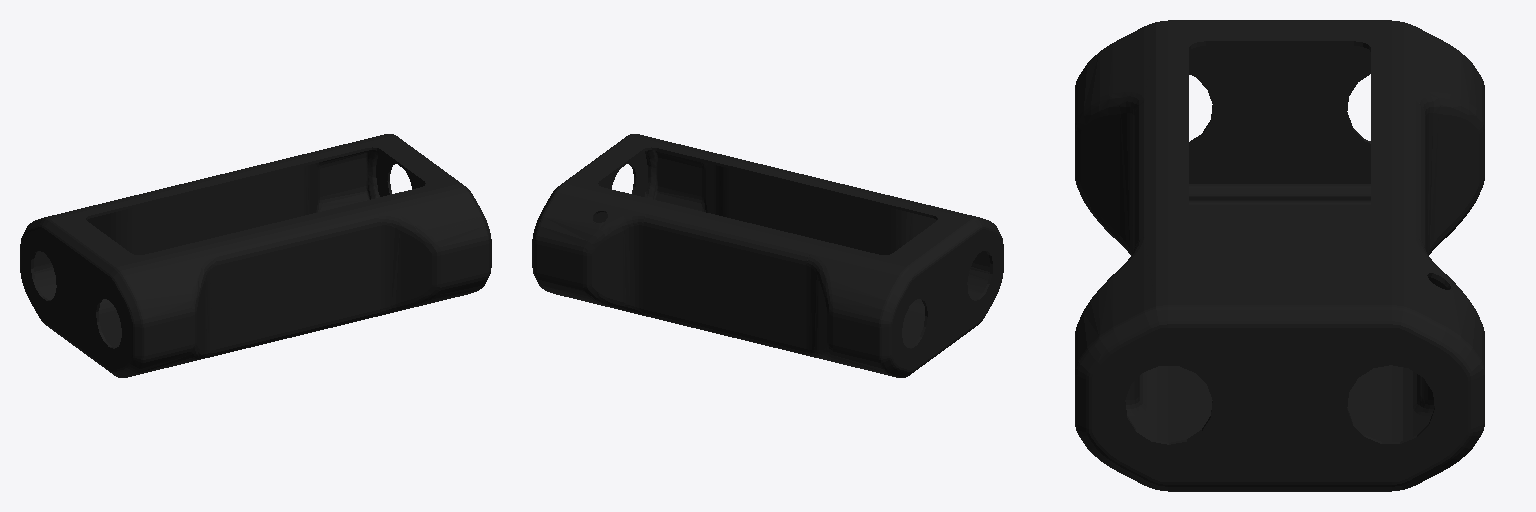
URDF robot description (quick_bipedal_urdf):
<?xml version="1.0" encoding="utf-8"?>
<!-- This URDF was automatically created by SolidWorks to URDF Exporter! Originally created by [author] ([email redacted]) 
     Commit Version: 1.6.0-4-g7f85cfe  Build Version: 1.6.7995.38578
     For more information, please see http://wiki.ros.org/sw_urdf_exporter -->
<robot
  name="quick_bipedal_urdf">
  <mujoco>
  <compiler
    meshdir="[local-path]/mujoco_rl/crazydog_mujoco/quick_bipedal_urdf/meshes"
    balanceinertia="true"
    discardvisual="false" />
  </mujoco>
  <link
    name="base_link">
    <inertial>
      <origin
        xyz="-0.0349747185483531 7.13750741980595E-05 0.0551699156416088"
        rpy="0 0 0" />
      <mass
        value="2.327" />
      <inertia
        ixx="0.010715"
        ixy="0.000013"
        ixz="0.000632"
        iyy="0.010702"
        iyz="-0.000011"
        izz="0.014614" />
    </inertial>
    <visual>
      <origin
        xyz="0 0 0"
        rpy="0 0 0" />
      <geometry>
        <mesh
          filename="../meshes/base_link.STL" />
      </geometry>
      <material
        name="">
        <color
          rgba="0.156862745098039 0.156862745098039 0.156862745098039 1" />
      </material>
    </visual>
    <collision>
      <origin
        xyz="-0.036 0 0.058"
        rpy="0 0 0" />
      <geometry>
        <box size="0.217 0.164 0.14"/>
      </geometry>
    </collision>
  </link>
  <link
    name="R_thigh_link">
    <inertial>
      <origin
        xyz="-0.00116865881115809 -0.0168013747444129 -0.141575378586168"
        rpy="0 0 0" />
      <mass
        value="0.79" />
      <inertia
        ixx="0.003643"
        ixy="-0.000014"
        ixz="-0.000019"
        iyy="0.004007"
        iyz="-0.000195"
        izz="0.000534" />
    </inertial>
    <visual>
      <origin
        xyz="0 0 0"
        rpy="0 0 0" />
      <geometry>
        <mesh
          filename="../meshes/R_thigh_link.STL" />
      </geometry>
      <material
        name="">
        <color
          rgba="0.145098039215686 0.145098039215686 0.145098039215686 1" />
      </material>
    </visual>
    <collision>
      <origin
        xyz="0 -0.0175 -0.104"
        rpy="0 0 0" />
      <geometry>
        <box size="0.08 0.035 0.25"/>
      </geometry>
    </collision>
  </link>
  <joint
    name="R_thigh_joint"
    type="revolute">
    <origin
      xyz="-0.0341457848331154 -0.084999902008739 0.0485000000000005"
      rpy="0 0 0" />
    <parent
      link="base_link" />
    <child
      link="R_thigh_link" />
    <axis
      xyz="0 1 0" />
    <limit
      lower="0"
      upper="2.1"
      effort="23.7"
      velocity="30.1" />
  </joint>
  <link
    name="R_calf_link">
    <inertial>
      <origin
        xyz="-0.000152503655581268 -0.0172487963790917 -0.101144590057689"
        rpy="0 0 0" />
      <mass
        value="0.540" />
      <inertia
        ixx="0.004682"
        ixy="0.000000"
        ixz="-0.000004"
        iyy="0.004707"
        iyz="-0.000251"
        izz="0.000158" />
    </inertial>
    <visual>
      <origin
        xyz="0 0 0"
        rpy="0 0 0" />
      <geometry>
        <mesh
          filename="../meshes/R_calf_link.STL" />
      </geometry>
      <material
        name="">
        <color
          rgba="0.145098039215686 0.145098039215686 0.145098039215686 1" />
      </material>
    </visual>
    <collision>
      <origin
        xyz="0 -0.0118 -0.04"
        rpy="0 0 0" />
      <geometry>
        <box size="0.05 0.0236 0.13"/>
      </geometry>
    </collision>
  </link>
  <joint
    name="R_calf_joint"
    type="revolute">
    <origin
      xyz="6.2330402911856E-05 -0.0383000000000001 -0.179999989208108"
      rpy="0 0 0" />
    <parent
      link="R_thigh_link" />
    <child
      link="R_calf_link" />
    <axis
      xyz="0 1 0" />
    <limit
      lower="-2.7"
      upper="0"
      effort="23.7"
      velocity="30.1" />
  </joint>
  <link
    name="R_foc_collision">
    <collision>
      <origin
        xyz="0 0.04 0"
        rpy="1.57 0 0" />
      <geometry>
        <cylinder radius="0.03" length="0.03"/>
      </geometry>
    </collision>
  </link>
  <joint
    name="R_foc_coll_fix"
    type="fixed" dont_collapse="true">
    <origin
      xyz="0 -0.0425499999999996 -0.179999728516744"
      rpy="0 0 0" />
    <parent
      link="R_calf_link" />
    <child
      link="R_foc_collision" />
    <axis
      xyz="0 -1 0" />
  </joint>
  <link
    name="R_wheel_link">
    <inertial>
      <origin
        xyz="-6.23310435086261E-05 0.00898740727693001 -1.05886024392987E-08"
        rpy="0 0 0" />
      <mass
        value="0.3" />
      <inertia
        ixx="0.000480"
        ixy="0.0"
        ixz="0.0"
        iyy="0.000934"
        iyz="0.0"
        izz="0.000480" />
    </inertial>
    <visual>
      <origin
        xyz="0 0 0"
        rpy="0 0 0" />
      <geometry>
        <mesh
          filename="../meshes/R_wheel_link.STL" />
      </geometry>
      <material
        name="">
        <color
          rgba="0.152941176470588 0.152941176470588 0.152941176470588 1" />
      </material>
    </visual>
    <collision>
      <origin
        xyz="0 0.01 0"
        rpy="1.57 0 0" />
      <geometry>
        <cylinder radius="0.07" length="0.023"/>
      </geometry>
    </collision>
  </link>
  <joint
    name="R_wheel_joint"
    type="revolute">
    <origin
      xyz="0 -0.0425499999999996 -0.179999728516744"
      rpy="0 0 0" />
    <parent
      link="R_calf_link" />
    <child
      link="R_wheel_link" />
    <axis
      xyz="0 1 0" />
    <limit
      effort="3.69"
      velocity="60" />
  </joint>
  <link
    name="L_thigh_link">
    <inertial>
      <origin
        xyz="-0.00111963567493078 0.0168013756573534 -0.141575780416055"
        rpy="0 0 0" />
      <mass
        value="0.79" />
      <inertia
        ixx="0.003643"
        ixy="0.000014"
        ixz="-0.000019"
        iyy="0.004007"
        iyz="0.000195"
        izz="0.000534" />
    </inertial>
    <visual>
      <origin
        xyz="0 0 0"
        rpy="0 0 0" />
      <geometry>
        <mesh
          filename="../meshes/L_thigh_link.STL" />
      </geometry>
      <material
        name="">
        <color
          rgba="0.145098039215686 0.145098039215686 0.145098039215686 1" />
      </material>
    </visual>
    <collision>
      <origin
        xyz="0 0.0175 -0.104"
        rpy="0 0 0" />
      <geometry>
        <box size="0.08 0.035 0.25"/>
      </geometry>
    </collision>
  </link>
  <joint
    name="L_thigh_joint"
    type="revolute">
    <origin
      xyz="-0.0341457848331138 0.085000097991257 0.0485000000000014"
      rpy="0 0 0" />
    <parent
      link="base_link" />
    <child
      link="L_thigh_link" />
    <axis
      xyz="0 1 0" />
    <limit
      lower="0"
      upper="2.1"
      effort="23.7"
      velocity="30.1" />
  </joint>
  <link
    name="L_calf_link">
    <inertial>
      <origin
        xyz="-0.000111671469757213 0.0172542844086094 -0.101218834955459"
        rpy="0 0 0" />
      <mass
        value="0.540" />
      <inertia
        ixx="0.004689"
        ixy="0.000000"
        ixz="-0.000004"
        iyy="0.004713"
        iyz="0.000252"
        izz="0.000158" />
    </inertial>
    <visual>
      <origin
        xyz="0 0 0"
        rpy="0 0 0" />
      <geometry>
        <mesh
          filename="../meshes/L_calf_link.STL" />
      </geometry>
      <material
        name="">
        <color
          rgba="0.145098039215686 0.145098039215686 0.145098039215686 1" />
      </material>
    </visual>
    <collision>
      <origin
        xyz="0 0.0118 -0.04"
        rpy="0 0 0" />
      <geometry>
        <box size="0.05 0.0236 0.13"/>
      </geometry>
    </collision>
  </link>
  <joint
    name="L_calf_joint"
    type="revolute">
    <origin
      xyz="6.23304029101976E-05 0.0382999999999904 -0.179999989208111"
      rpy="0 0 0" />
    <parent
      link="L_thigh_link" />
    <child
      link="L_calf_link" />
    <axis
      xyz="0 1 0" />
    <limit
      lower="-2.7"
      upper="0"
      effort="23.7"
      velocity="30.1" />
  </joint>
  <link
    name="L_foc_collision">
    <collision>
      <origin
        xyz="0 -0.04 0"
        rpy="-1.57 0 0" />
      <geometry>
        <cylinder radius="0.03" length="0.03"/>
      </geometry>
    </collision>
  </link>
  <joint
    name="L_foc_coll_fix"
    type="fixed" dont_collapse="true">
    <origin
      xyz="0 0.0425499999999973 -0.179999728516743"
      rpy="0 0 0" />
    <parent
      link="L_calf_link" />
    <child
      link="L_foc_collision" />
    <axis
      xyz="0 -1 0" />
  </joint>
  <link
    name="L_wheel_link">
    <inertial>
      <origin
        xyz="-8.1140716368111E-10 -0.00898740726095121 2.81785317302052E-10"
        rpy="0 0 0" />
      <mass
        value="0.3" />
      <inertia
        ixx="0.000480"
        ixy="0.0"
        ixz="0.0"
        iyy="0.000934"
        iyz="0.0"
        izz="0.000480"/>
    </inertial>
    <visual>
      <origin
        xyz="0 0 0"
        rpy="0 0 0" />
      <geometry>
        <mesh
          filename="../meshes/L_wheel_link.STL" />
      </geometry>
      <material
        name="">
        <color
          rgba="0.152941176470588 0.152941176470588 0.152941176470588 1" />
      </material>
    </visual>
    <collision>
      <origin
        xyz="0 -0.01 0"
        rpy="-1.57 0 0" />
      <geometry>
        <cylinder radius="0.07" length="0.023"/>
      </geometry>
    </collision>
  </link>
  <joint
    name="L_wheel_joint"
    type="revolute">
    <origin
      xyz="0 0.0425499999999973 -0.179999728516743"
      rpy="0 0 0" />
    <parent
      link="L_calf_link" />
    <child
      link="L_wheel_link" />
    <axis
      xyz="0 1 0" />
    <limit
      effort="3.69"
      velocity="60" />
  </joint>
  <link
    name="battery">
    <inertial>
      <origin
        xyz="-0.0775119919132627 -1.9661645415506E-05 0.0555034567020061"
        rpy="0 0 0" />
      <mass
        value="0.680" />
      <inertia
        ixx="0.000415"
        ixy="-0.000002"
        ixz="0.000032"
        iyy="0.001214"
        iyz="0.000001"
        izz="0.000978" />
    </inertial>
    <visual>
      <origin
        xyz="0 0 0"
        rpy="0 0 0" />
      <geometry>
        <mesh
          filename="../meshes/battery.STL" />
      </geometry>
      <material
        name="">
        <color
          rgba="0.247058823529412 0.247058823529412 0.247058823529412 1" />
      </material>
    </visual>
  </link>
  <joint
    name="battery_fix"
    type="fixed">
    <origin
      xyz="0 0 0"
      rpy="0 0 0" />
    <parent
      link="base_link" />
    <child
      link="battery" />
    <axis
      xyz="0 0 0" />
  </joint>
</robot>

--- Facts derived from the render (not from the file) ---
The picture shows the robot from 3 angles, left to right: view 1: azimuth 30°, elevation 25°; view 2: azimuth 150°, elevation 25°; view 3: azimuth 270°, elevation 25°; orthographic projection.
Robot: quick_bipedal_urdf — 10 links, 9 joints (6 revolute, 3 fixed); root link base_link; default pose: all joints at 0.
Visible links, largest first — view 1: base_link; view 2: base_link; view 3: base_link.
Boxes of the visible links, x1,y1,x2,y2 form: base_link: (20,134,491,377); base_link: (532,134,1003,377); base_link: (1075,20,1484,491).
Bounding box of the posed robot: 0.416 × 0.242 × 0.121 m (x, y, z).
Meshes: 8 distinct files referenced, 1 mesh visuals loaded (1 binary STL); not drawn: 7 (reference not matched to a file when rendering).